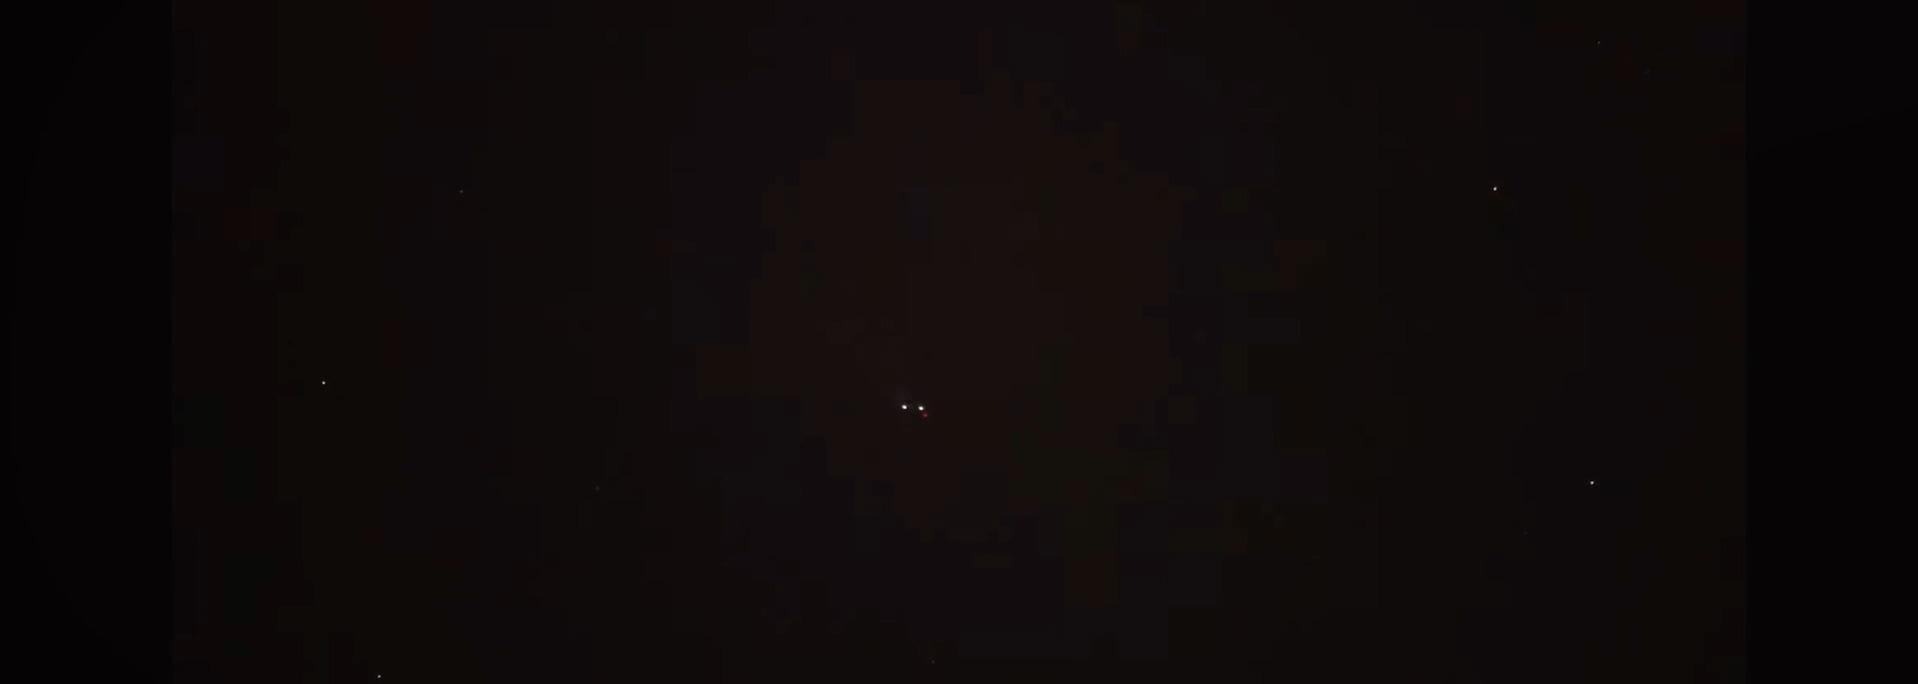Plane: (868, 392, 960, 429)
